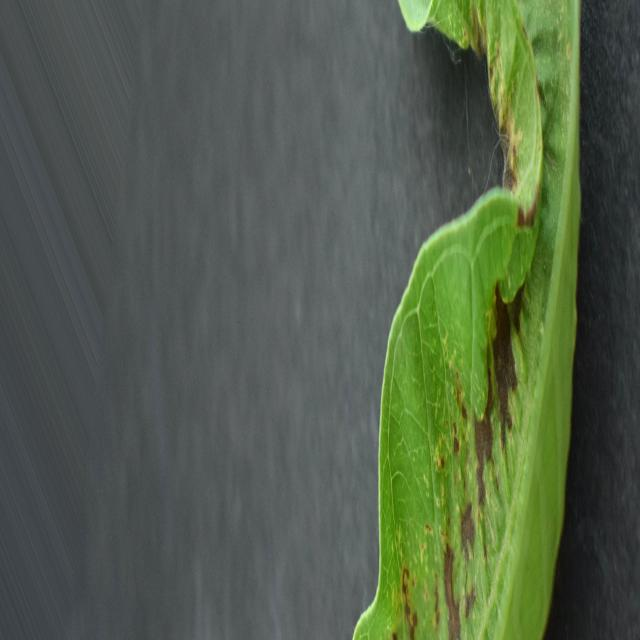Canker: (354, 0, 580, 639)
